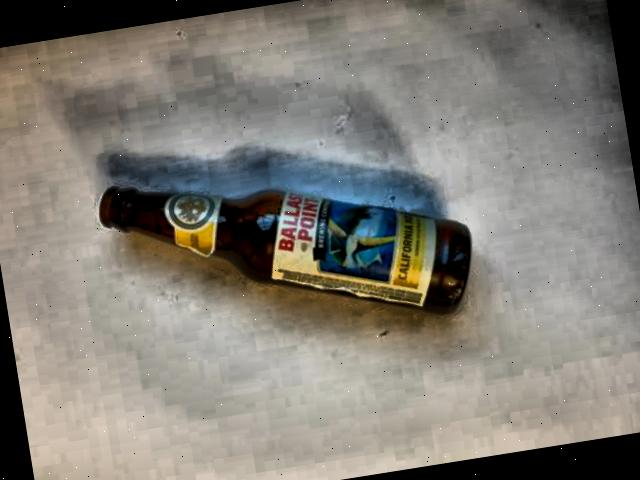Bottles: (79, 113, 498, 388)
